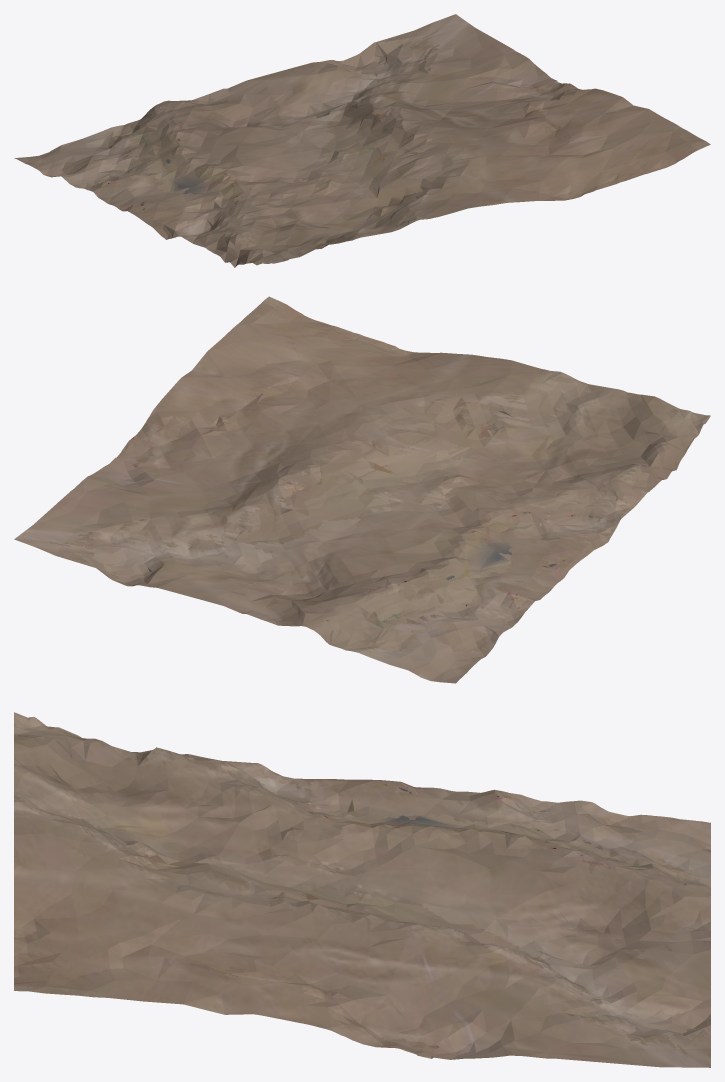
3 renders of one model, top to bottom at view 1: azimuth 30°, elevation 25°; view 2: azimuth 150°, elevation 25°; view 3: azimuth 270°, elevation 25°, orthographic. The views are drawn at different scales.
Bounding box in the file's own units: 1.04 × 0.2173 × 1.04.
2 materials, 2 textured.
